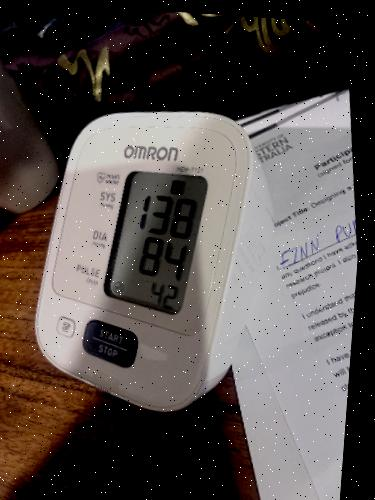bpm: (99, 160, 210, 318)
